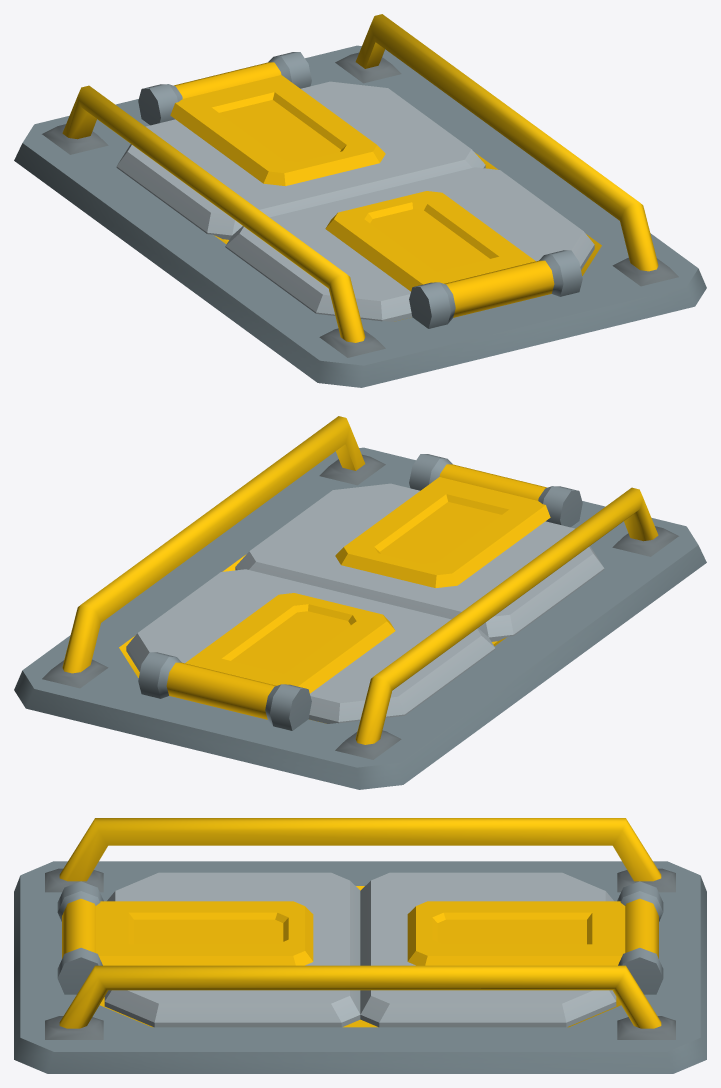
Rendered from Hatch_011.glb.
The picture shows the model from 3 angles, top to bottom: view 1: azimuth 30°, elevation 25°; view 2: azimuth 150°, elevation 25°; view 3: azimuth 270°, elevation 25°; orthographic projection. The views are drawn at different scales.
Parts seen in each view (by area): view 1: Hatch_011, Hatch_011_door_001.001; view 2: Hatch_011, Hatch_011_door_001.001; view 3: Hatch_011, Hatch_011_door_001.001.
Part boxes in pixels (box(x1,y1,x2,y2)): Hatch_011: box(14, 14, 706, 387); Hatch_011_door_001.001: box(225, 167, 594, 321); Hatch_011: box(14, 416, 706, 789); Hatch_011_door_001.001: box(235, 477, 604, 641); Hatch_011: box(14, 818, 706, 1073); Hatch_011_door_001.001: box(95, 872, 360, 1027).
Bounding box in the file's own units: 0.87 × 0.1696 × 1.3.
Materials: 1 (1 with a texture image).
